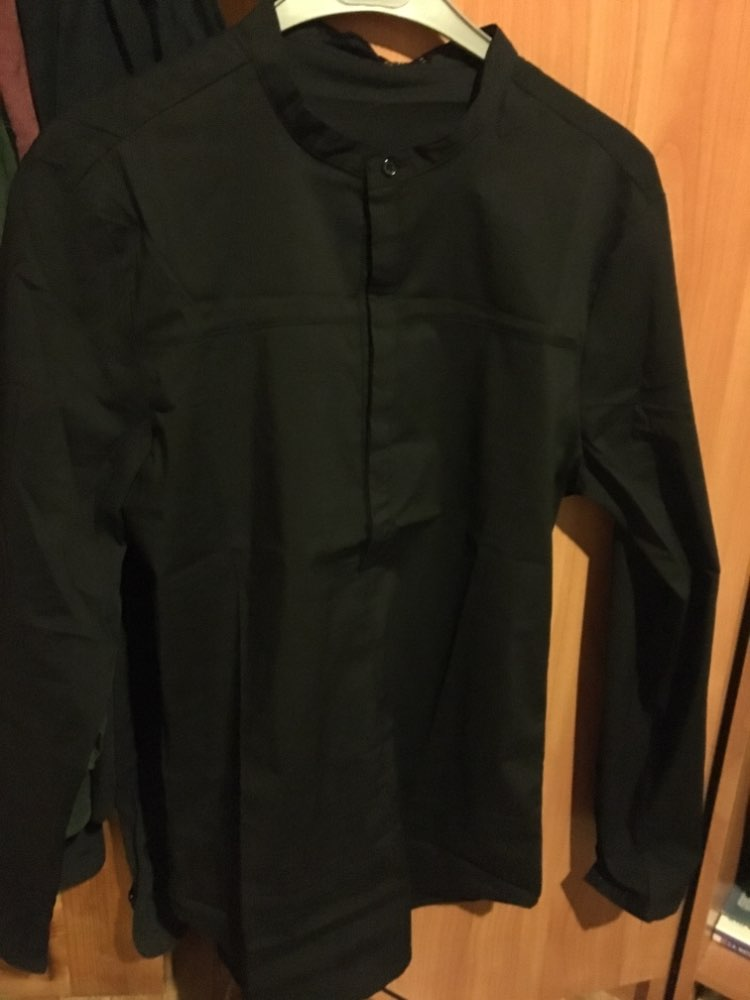shirts: (65, 22, 714, 976)
